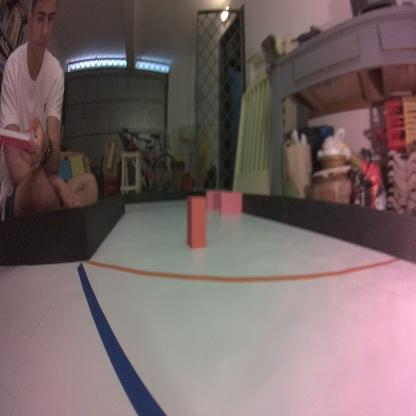magenta: (219, 190, 242, 218), (206, 186, 225, 208)
red: (185, 193, 209, 252)
